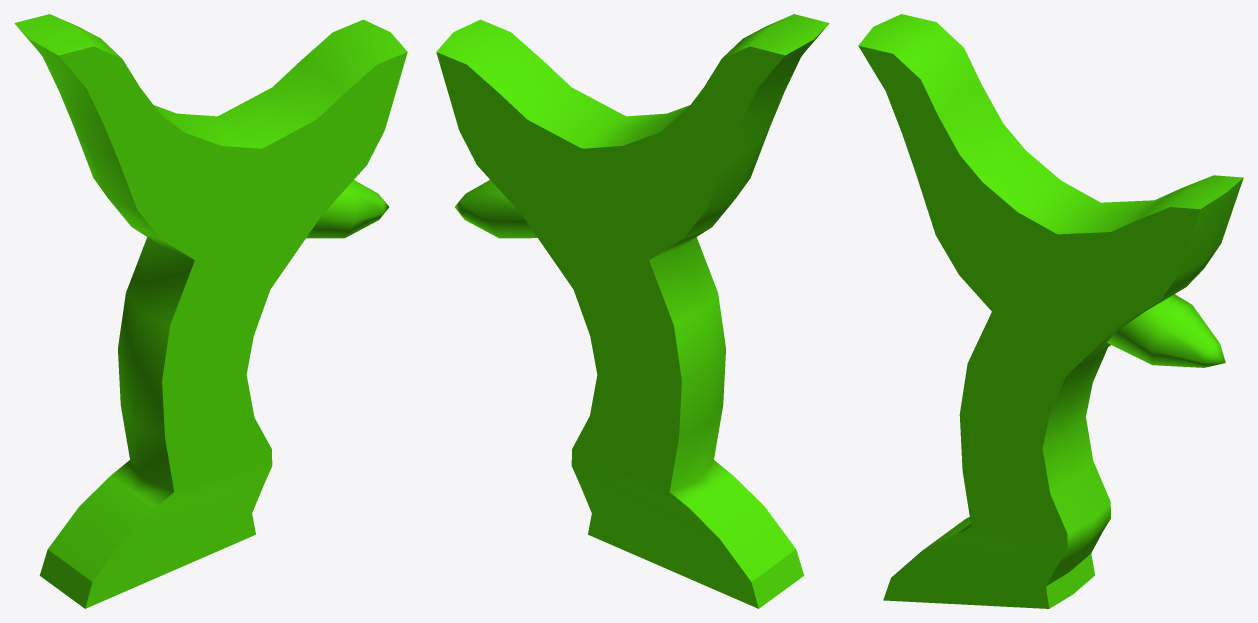
Rendered from Hammer.fbx.
3 renders of one model, left to right at view 1: azimuth 30°, elevation 25°; view 2: azimuth 150°, elevation 25°; view 3: azimuth 330°, elevation 25°, orthographic. The views are drawn at different scales.
Visible parts, largest first — view 1: Hammer; view 2: Hammer; view 3: Hammer.
Part boxes in pixels (box(x1,y1,x2,y2)): Hammer: box(14, 14, 407, 608); Hammer: box(436, 14, 829, 608); Hammer: box(858, 14, 1243, 608).
Size of the model in its own units: 1.09 by 1.63 by 0.2452.
